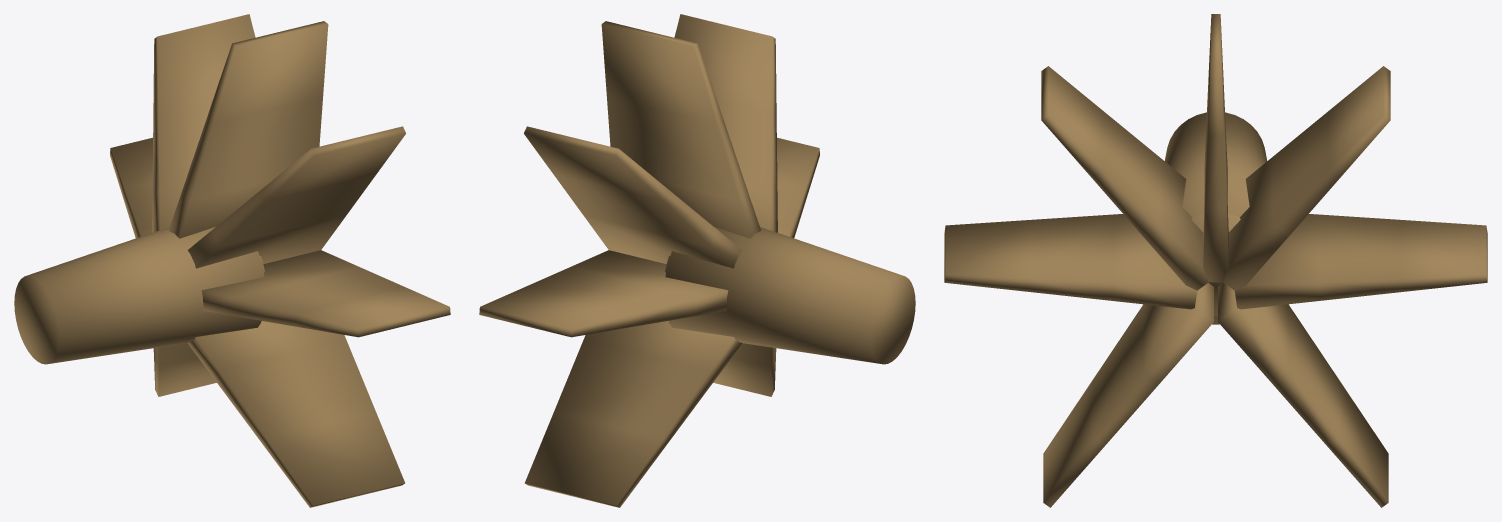
File: CN_SSBN_Type092_PROPULSOR_01.fbx
3 renders of one model, left to right at view 1: azimuth 30°, elevation 25°; view 2: azimuth 150°, elevation 25°; view 3: azimuth 270°, elevation 25°, orthographic. The views are drawn at different scales.
Parts seen in each view (by area): view 1: CN_SSBN_Type092_PROPULSOR_01; view 2: CN_SSBN_Type092_PROPULSOR_01; view 3: CN_SSBN_Type092_PROPULSOR_01.
Part boxes in pixels (x1,y1,x2,y2): CN_SSBN_Type092_PROPULSOR_01: (14, 14, 450, 507); CN_SSBN_Type092_PROPULSOR_01: (479, 14, 915, 507); CN_SSBN_Type092_PROPULSOR_01: (944, 14, 1487, 507).
Size of the model in its own units: 2.2 by 3.28 by 2.96.
